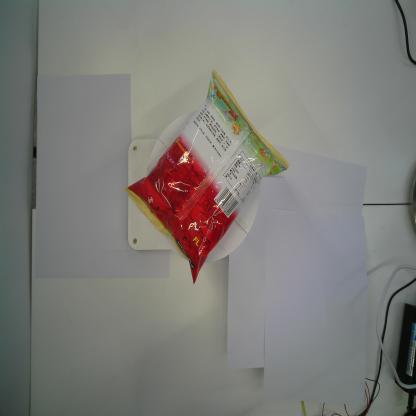Puffed Food: (124, 68, 291, 288)
